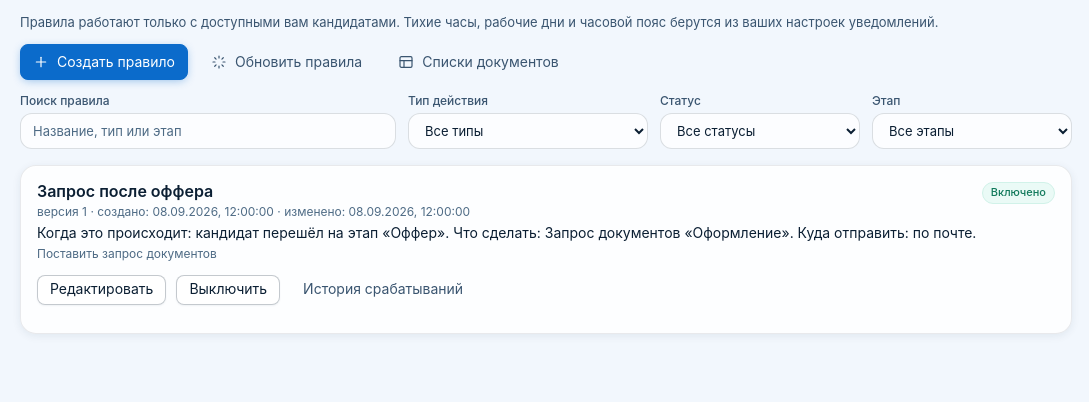
Test: Мои правила › filters rules by action kind
expect the heading "Запрос после оффера" is shown: met, box [37,181,213,201]
Select "Напоминание о документах" in the dropdown labelled "Тип действия" at (528, 131), box [408,113,648,149]
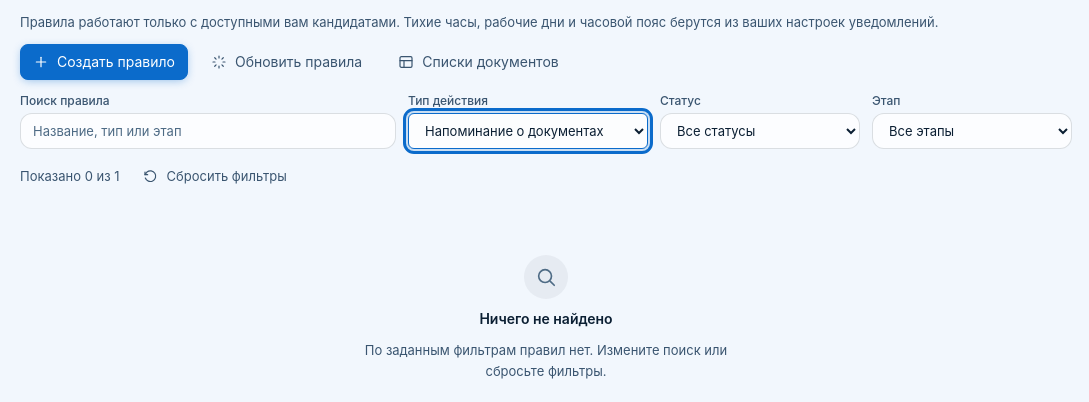
expect the text "Показано 0 из 1" is shown: met, box [20,167,120,186]
expect the heading "Запрос после оффера" is gone: met
Select "Запрос документов" in the dropdown labelled "Тип действия" at (528, 131), box [408,113,648,149]
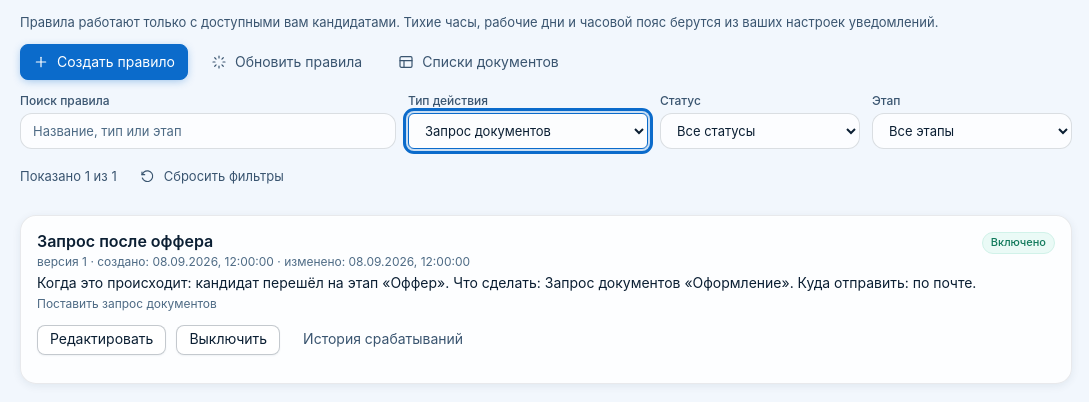
expect the text "Показано 1 из 1" is shown: met, box [20,167,117,186]
expect the heading "Запрос после оффера" is shown: met, box [37,231,213,251]
